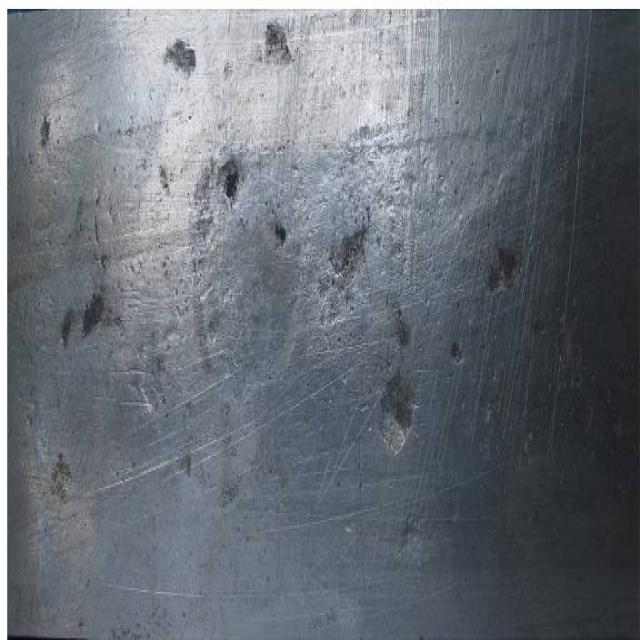geshang: (367, 368, 423, 460), (316, 227, 379, 306), (212, 150, 245, 224), (483, 241, 526, 296), (258, 14, 298, 68), (159, 38, 202, 81), (78, 290, 108, 338)
